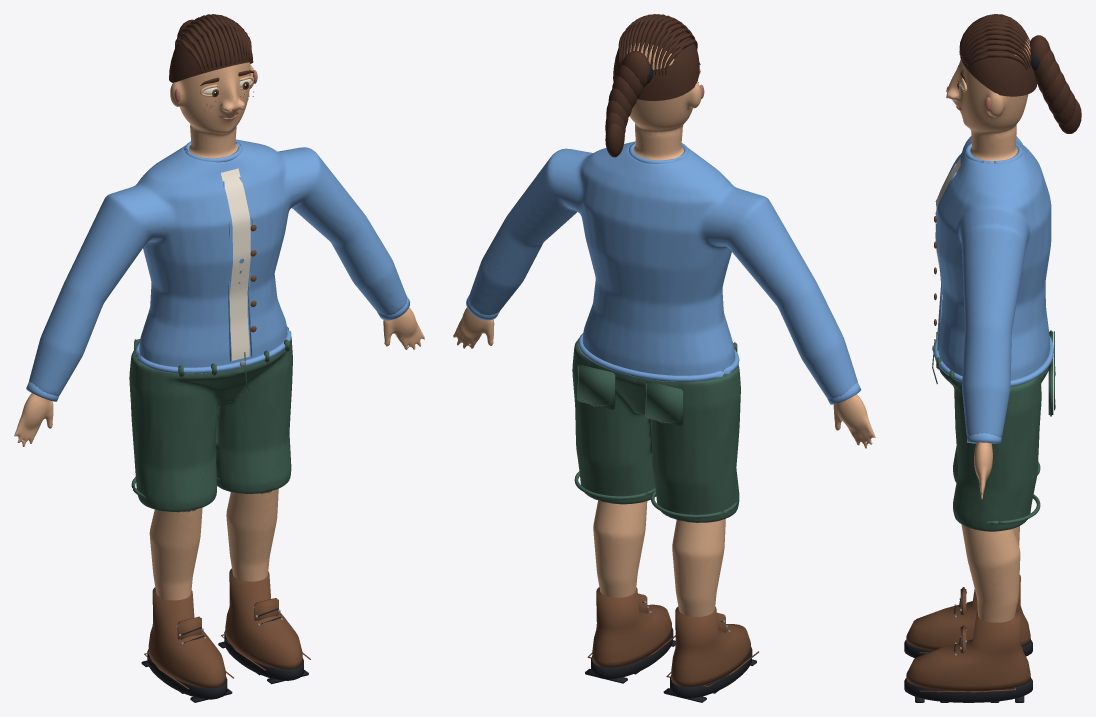
File: NPC2_10_Civil_Female_Cardigan.fbx
3 renders of one model, left to right at view 1: azimuth 30°, elevation 25°; view 2: azimuth 150°, elevation 25°; view 3: azimuth 270°, elevation 25°, orthographic. The views are drawn at different scales.
Visible parts, largest first — view 1: Garment_Top_Continuous.011, Trouser_Continuous.011, Skin_10_Civil_Female_Cardigan, Shoe_Upper.023, Shoe_Upper.022, Undershirt_Front.004, Hair_Cap.011, Top_Hem.011, Shoe_Sole.022, Shoe_Sole.023; view 2: Garment_Top_Continuous.011, Trouser_Continuous.011, Skin_10_Civil_Female_Cardigan, Shoe_Upper.023, Shoe_Upper.022, Hair_Cap.011, Back_Pocket.022, Back_Pocket.023, Top_Hem.011, Shoe_Sole.023, Shoe_Sole.022; view 3: Garment_Top_Continuous.011, Skin_10_Civil_Female_Cardigan, Trouser_Continuous.011, Shoe_Upper.023, Shoe_Upper.022, Hair_Cap.011, Shoe_Sole.023, Top_Hem.011, Hair_Ponytail.003, Hair_Ponytail.004, Hair_SweptLock.093, Hair_SweptLock.092 (+15 smaller).
Boxes of the visible parts, x1=… form: Garment_Top_Continuous.011: x1=29, y1=139, x2=406, y2=396; Trouser_Continuous.011: x1=129, y1=337, x2=292, y2=511; Skin_10_Civil_Female_Cardigan: x1=14, y1=62, x2=424, y2=600; Shoe_Upper.023: x1=225, y1=568, x2=302, y2=669; Shoe_Upper.022: x1=148, y1=587, x2=226, y2=688; Undershirt_Front.004: x1=221, y1=168, x2=250, y2=360; Hair_Cap.011: x1=169, y1=24, x2=253, y2=82; Top_Hem.011: x1=135, y1=326, x2=291, y2=373; Shoe_Sole.022: x1=147, y1=649, x2=227, y2=699; Shoe_Sole.023: x1=224, y1=630, x2=303, y2=680; Garment_Top_Continuous.011: x1=469, y1=141, x2=857, y2=399; Trouser_Continuous.011: x1=572, y1=338, x2=740, y2=522; Skin_10_Civil_Female_Cardigan: x1=453, y1=42, x2=875, y2=616; Shoe_Upper.023: x1=592, y1=587, x2=671, y2=667; Shoe_Upper.022: x1=671, y1=606, x2=750, y2=686; Hair_Cap.011: x1=613, y1=24, x2=699, y2=100; Back_Pocket.022: x1=645, y1=381, x2=683, y2=426; Back_Pocket.023: x1=577, y1=364, x2=615, y2=409; Top_Hem.011: x1=578, y1=333, x2=739, y2=381; Shoe_Sole.023: x1=591, y1=627, x2=673, y2=679; Shoe_Sole.022: x1=670, y1=647, x2=752, y2=698; Garment_Top_Continuous.011: x1=935, y1=136, x2=1051, y2=437; Skin_10_Civil_Female_Cardigan: x1=946, y1=37, x2=1030, y2=622; Trouser_Continuous.011: x1=939, y1=367, x2=1048, y2=531; Shoe_Upper.023: x1=906, y1=610, x2=1030, y2=691; Shoe_Upper.022: x1=906, y1=575, x2=1030, y2=650; Hair_Cap.011: x1=960, y1=36, x2=1037, y2=96; Shoe_Sole.023: x1=904, y1=678, x2=1032, y2=702; Top_Hem.011: x1=934, y1=336, x2=1053, y2=386; Hair_Ponytail.003: x1=1042, y1=71, x2=1065, y2=104; Hair_Ponytail.004: x1=1047, y1=81, x2=1070, y2=114; Hair_SweptLock.093: x1=963, y1=34, x2=1031, y2=65; Hair_SweptLock.092: x1=962, y1=30, x2=1031, y2=60.
Size of the model in its own units: 1.16 by 1.74 by 0.4254.
